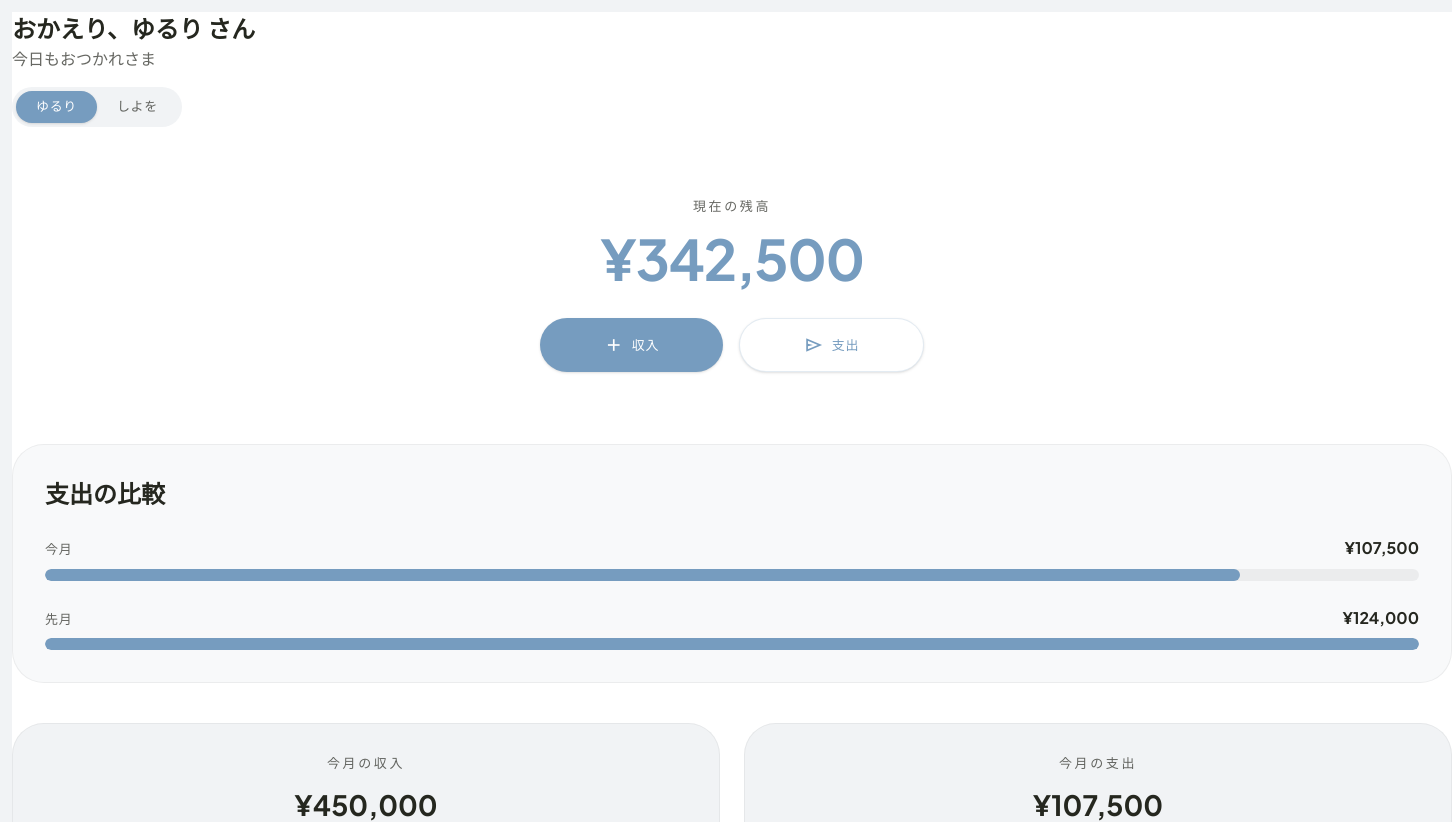
HomePage ダッシュボード統合 › 相手タブに切り替えると相手の残高になる
The image size is (1452, 822).
Check: the text "¥342,500" is shown, box [600, 230, 864, 286]
Click the radio button labelled "しよを" at (138, 107), box [97, 91, 178, 123]
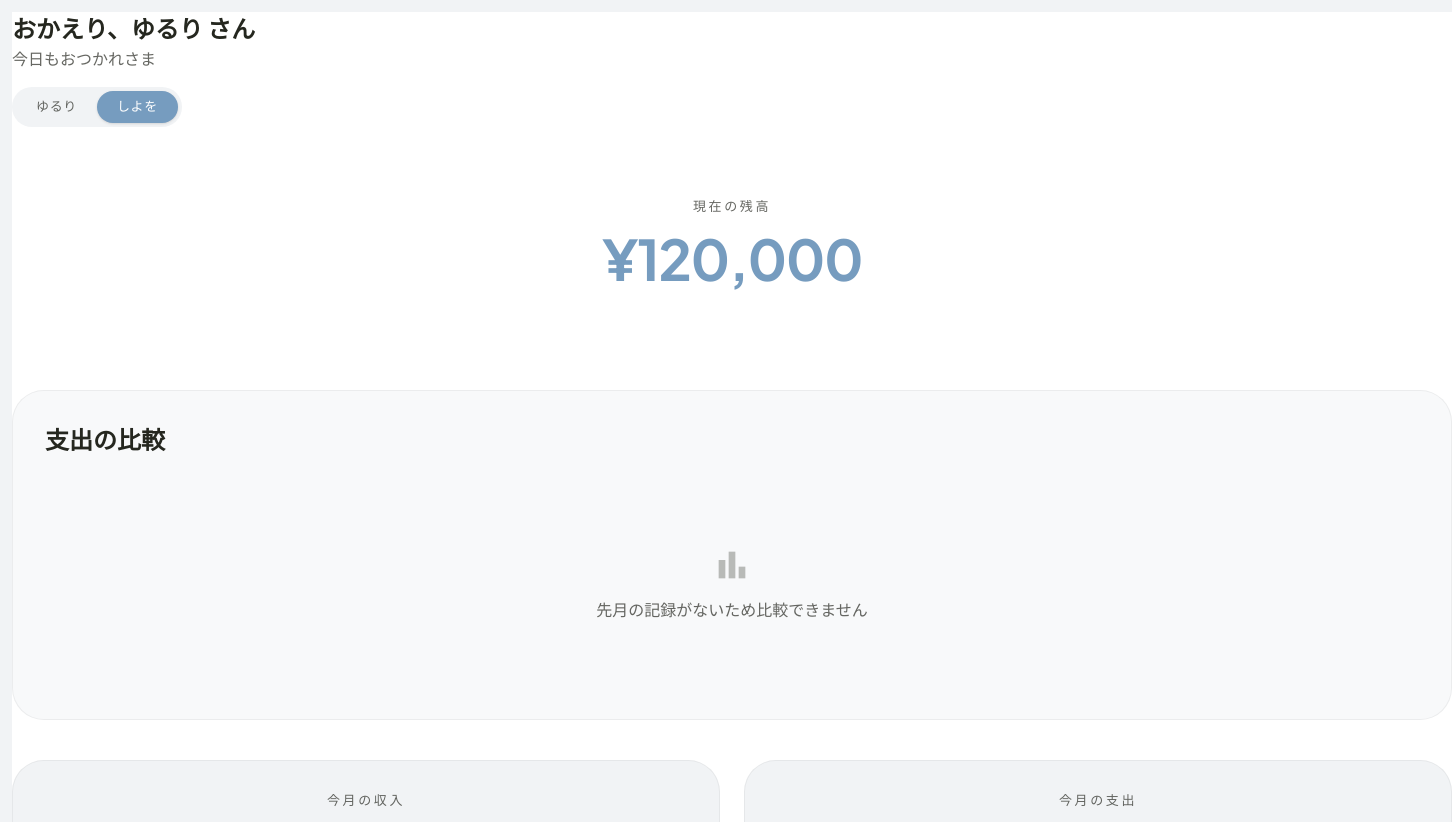
Check: the heading "おかえり、ゆるり さん" is shown, box [12, 13, 255, 43]
Check: the text "¥120,000" is shown, box [602, 230, 862, 286]
